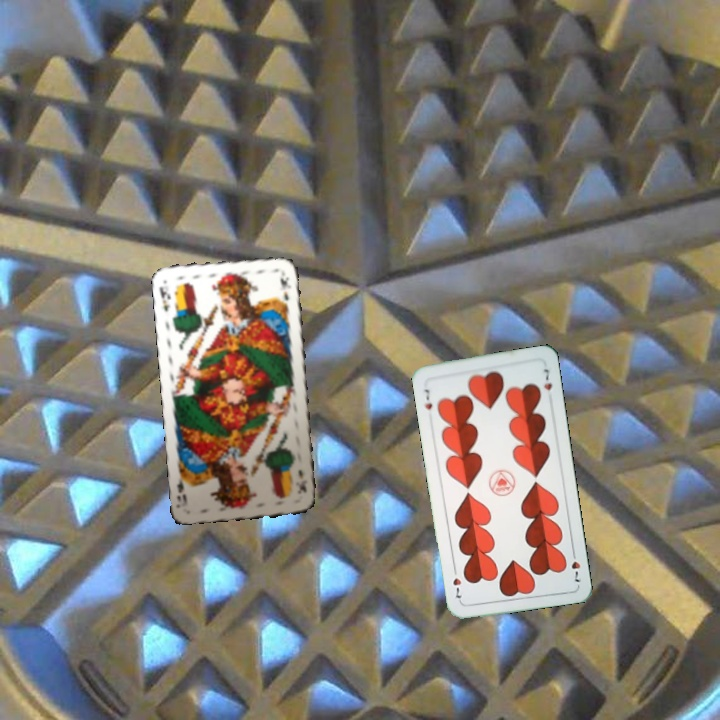EK: (155, 282, 173, 314), (294, 466, 310, 496)
H7: (567, 546, 583, 585), (420, 385, 435, 412)
